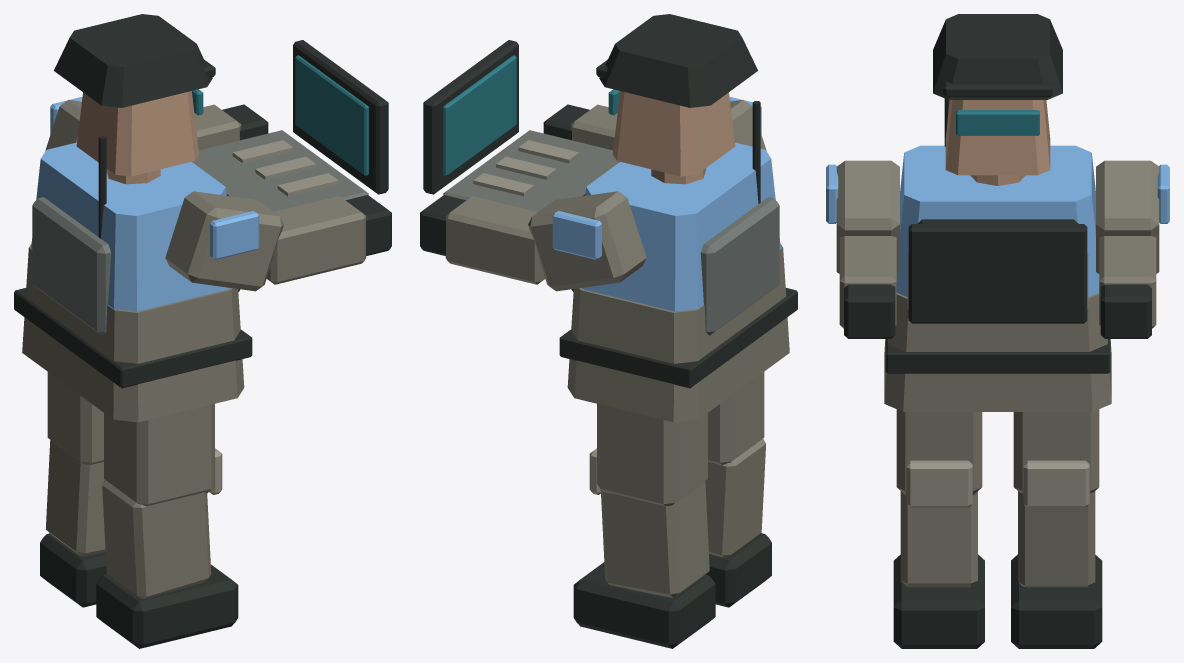
Rendered from hacker.glb.
The picture shows the model from 3 angles, left to right: view 1: azimuth 30°, elevation 25°; view 2: azimuth 150°, elevation 25°; view 3: azimuth 270°, elevation 25°; orthographic projection. The views are drawn at different scales.
Parts seen in each view (by area): view 1: hacker; view 2: hacker; view 3: hacker.
Part boxes in pixels (x1=…): hacker: x1=14, y1=14, x2=391, y2=648; hacker: x1=420, y1=14, x2=797, y2=648; hacker: x1=826, y1=14, x2=1169, y2=648.
Bounding box in the file's own units: 0.723 × 1.38 × 0.734.
